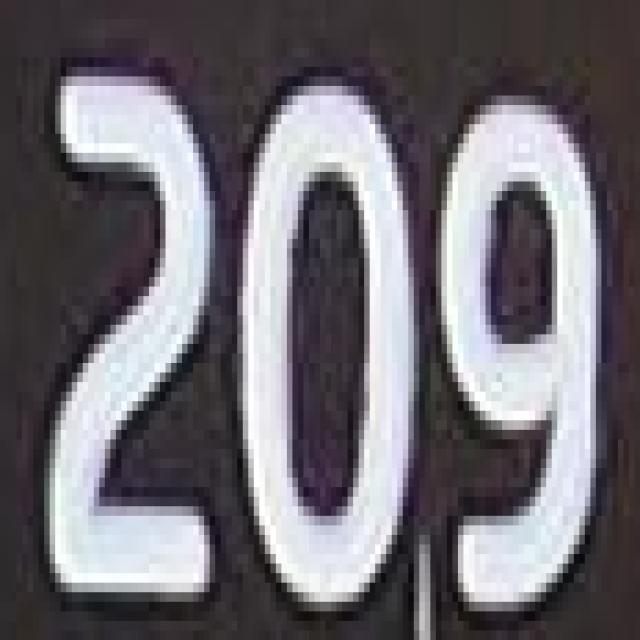character: (232, 70, 423, 623), (39, 59, 225, 620), (437, 89, 611, 624)
